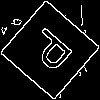P: (25, 25, 82, 81)
